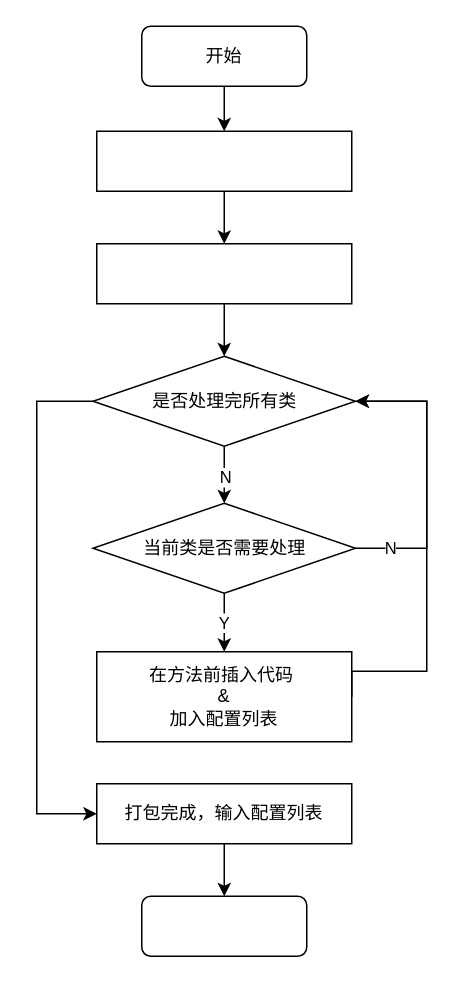
This 465x983 diagram has some shape labels left out. The shapes that lost their labels are listed below. From the top down, each one's box as (x1, y1, x2, y2) in pixels, then its label:
(95, 130, 352, 191): 开始编译
(95, 242, 352, 304): Transform 处理.class文件
(140, 895, 307, 956): 结束
